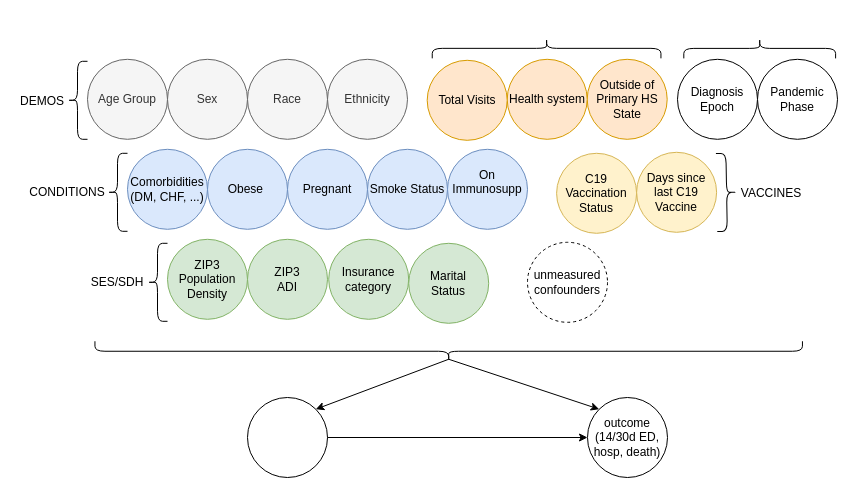
Some shapes in this 859 by 495 pixel diagram are drawn without their labels. Each missing label, with the centre of its shape:
"HEALTH SYST" belongs at [546,47].
"mAB" belongs at [287,437].
"TEMPORAL CONFOUNDERS" belongs at [759,47].
